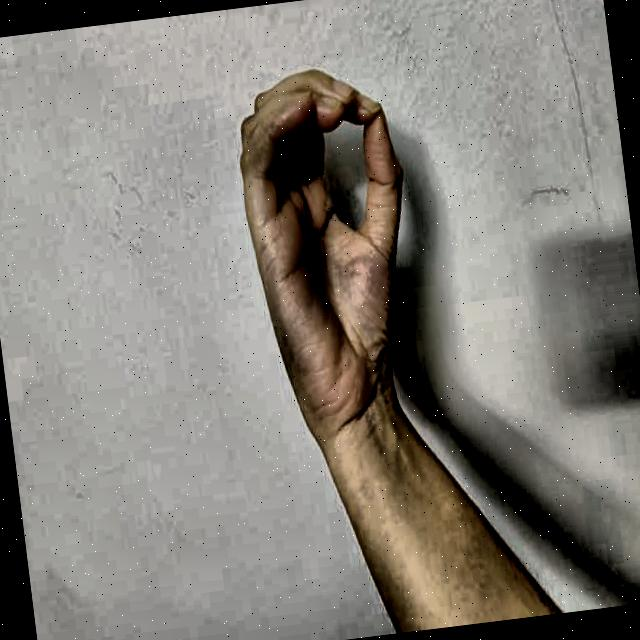O: (210, 44, 451, 461)
